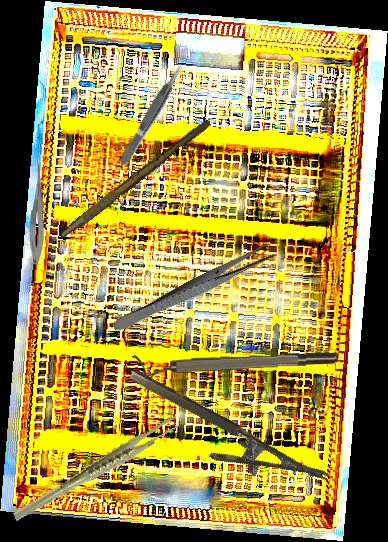Dressing Forceps: (110, 240, 277, 338)
Fixation Ring: (130, 348, 339, 383)
Micro Scissor: (28, 155, 46, 266)
Needle Holder: (114, 366, 331, 513)
Scalpel Handle: (58, 115, 213, 244)
Tissue Forceps: (0, 414, 192, 523), (114, 60, 189, 170)
